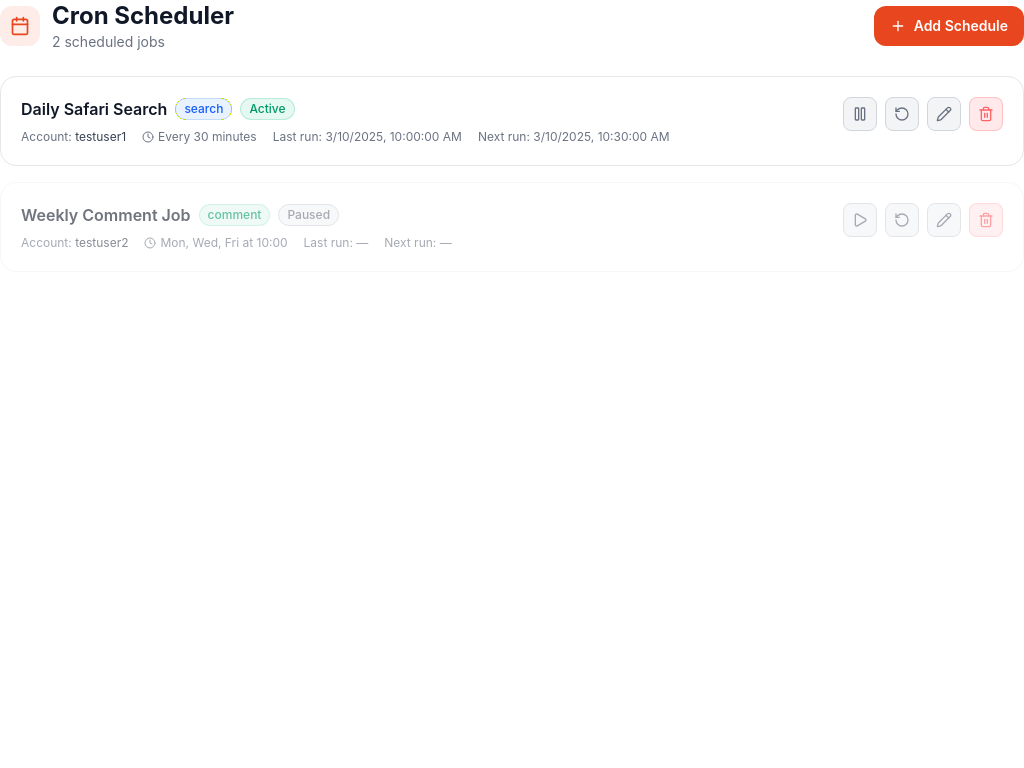
Test: CronScheduler › shows delete confirmation dialog
expect the heading "Daily Safari Search" is shown: met, box [21,97,167,121]
# Find the delete buttons (there should be 2 — one per job card)
Click the button titled "Delete" in the row of "Active" at (986, 114), box [969,97,1003,131]
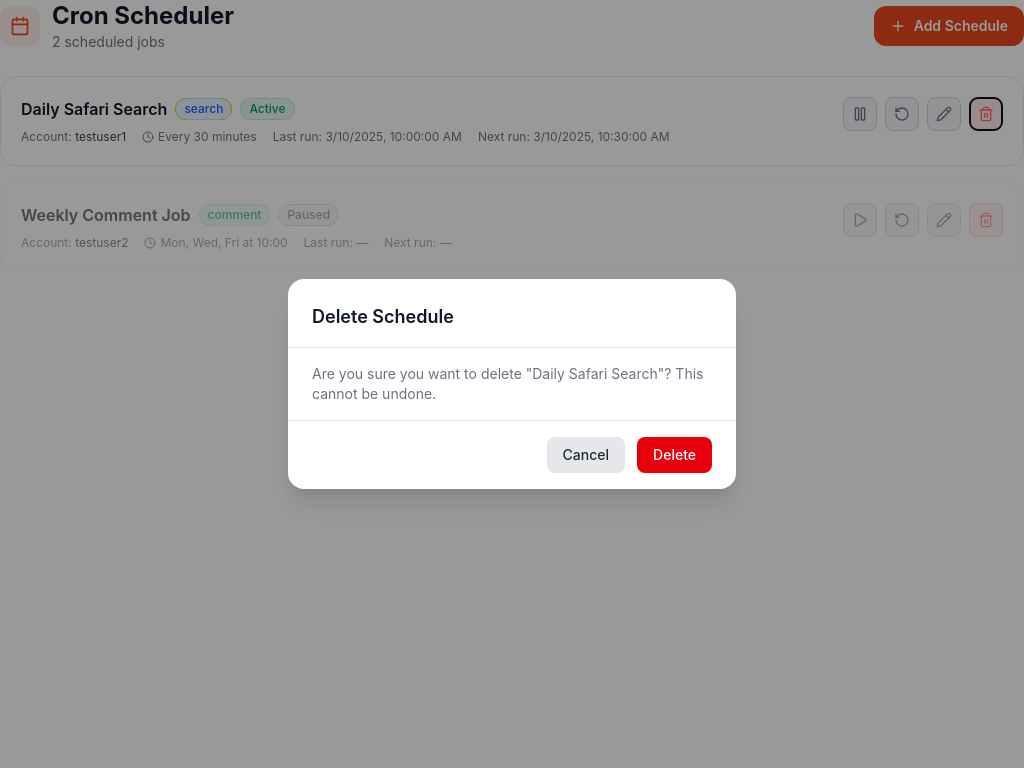
expect the text "Are you sure you want to delete" is shown: met, box [312,365,704,402]
